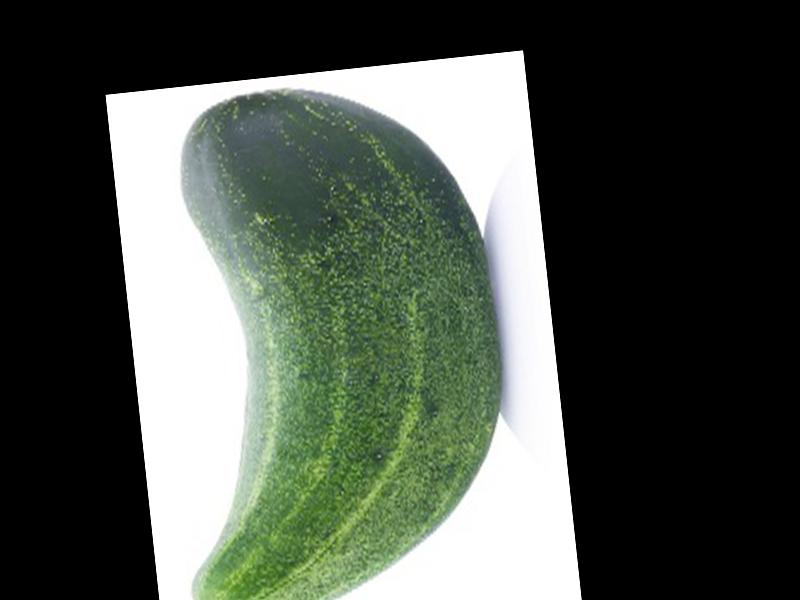Cucumber: (142, 68, 525, 600)
